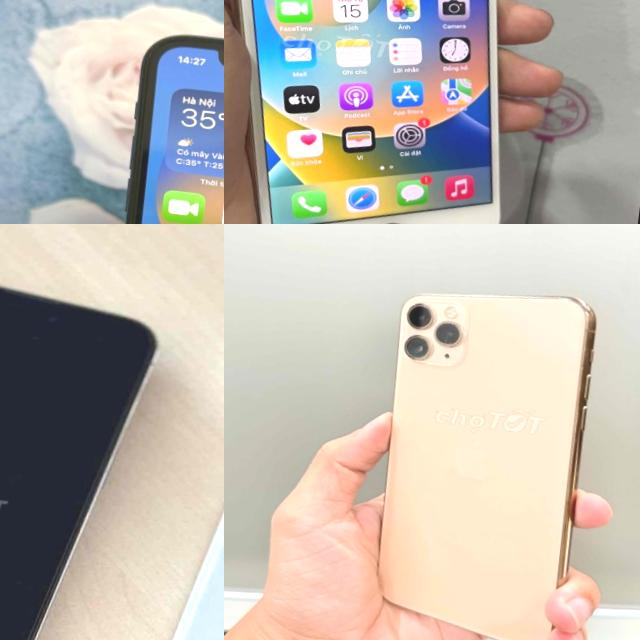gen_11: (338, 271, 614, 640), (75, 17, 224, 224)
gen_14: (0, 244, 171, 640)
gen_7_8: (224, 0, 562, 224)
